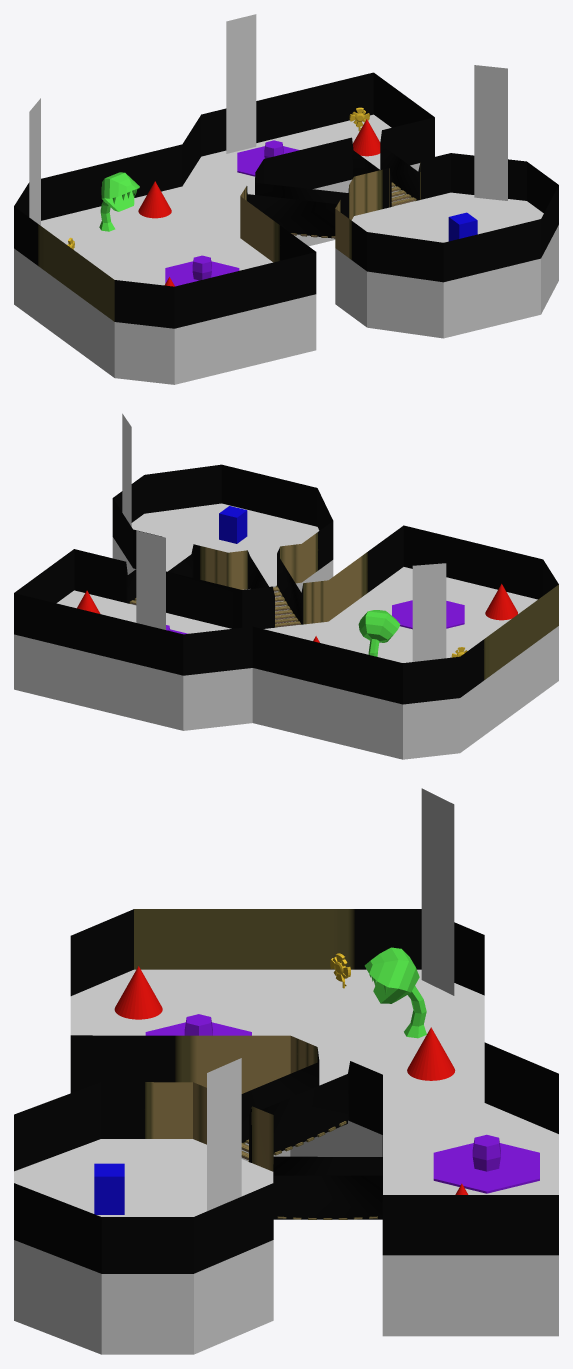
Rendered from Nuevo_N3-Pantano.fbx.
3 renders of one model, top to bottom at view 1: azimuth 30°, elevation 25°; view 2: azimuth 150°, elevation 25°; view 3: azimuth 270°, elevation 25°, orthographic. The views are drawn at different scales.
Parts seen in each view (by area): view 1: Limite Base, Base.004, Base.003, Arbol.010, Arbol.011, Planta Carnivora.001, Arbol.008, Barriles en Barro.001, Barriles en Barro.004, Spawn.008, Jugador.004, Spawn.007; view 2: Limite Base, Base.004, Base.003, Arbol.008, Arbol.011, Planta Carnivora.001, Arbol.010, Jugador.004, Barriles en Barro.001, Spawn.009, Puente 2; view 3: Limite Base, Base.004, Base.003, Arbol.008, Arbol.010, Barriles en Barro.004, Planta Carnivora.001, Jugador.004, Spawn.009, Spawn.008, Barriles en Barro.001.
Part boxes in pixels (x1,y1,x2,y2): Limite Base: (14,72,558,328); Base.004: (14,114,419,384); Base.003: (335,192,558,338); Arbol.010: (474,65,507,200); Arbol.011: (226,14,256,153); Planta Carnivora.001: (99,172,139,231); Arbol.008: (29,98,40,225); Barriles en Barro.001: (165,255,239,286); Barriles en Barro.004: (237,140,299,176); Spawn.008: (138,181,171,218); Jugador.004: (448,212,477,241); Spawn.007: (353,119,380,156); Limite Base: (14,464,558,704); Base.004: (14,567,558,759); Base.003: (112,503,333,627); Arbol.008: (412,563,446,661); Arbol.011: (136,530,165,629); Planta Carnivora.001: (358,610,400,656); Arbol.010: (122,413,131,526); Jugador.004: (219,506,247,543); Barriles en Barro.001: (392,600,464,629); Spawn.009: (485,584,517,620); Puente 2: (273,585,300,627); Limite Base: (14,909,558,1273); Base.004: (70,969,558,1336); Base.003: (14,1139,273,1354); Arbol.008: (421,788,454,995); Arbol.010: (207,1058,241,1211); Barriles en Barro.004: (433,1134,539,1193); Planta Carnivora.001: (364,947,426,1038); Jugador.004: (94,1163,124,1214); Spawn.009: (114,966,162,1019); Spawn.008: (407,1027,455,1080); Barriles en Barro.001: (145,1014,251,1035).
Size of the model in its own units: 1614 by 674 by 1222.
